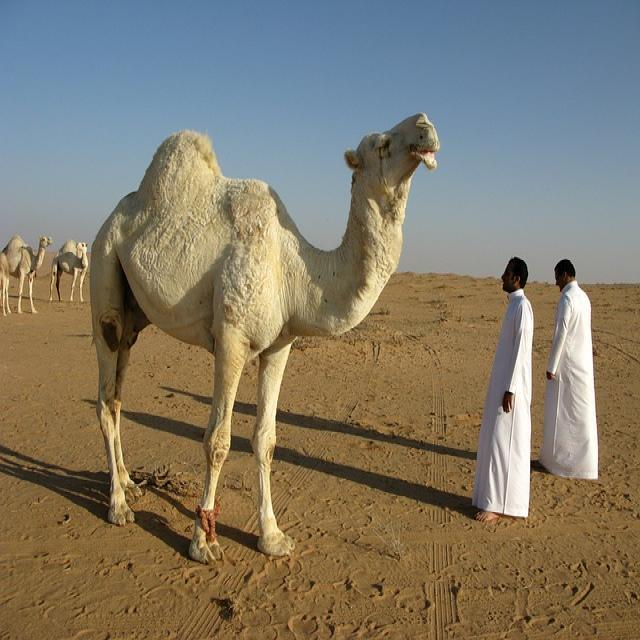Herbivorous: (87, 113, 439, 567), (1, 236, 52, 318)
